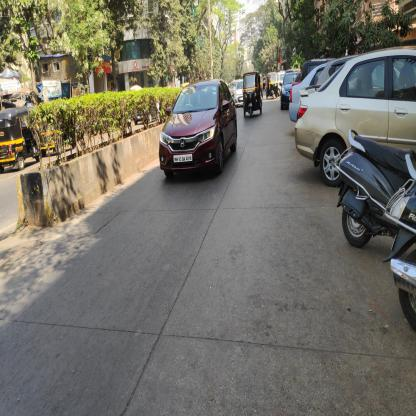license: (173, 155, 192, 161)
